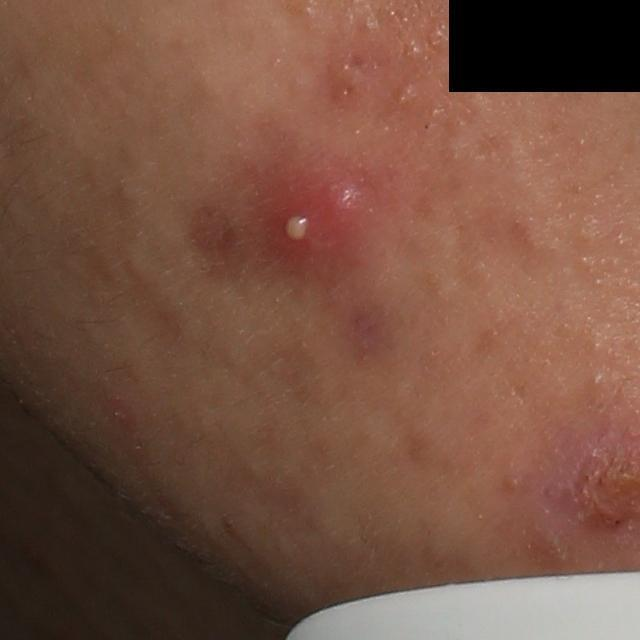pustule: (257, 166, 362, 275)
